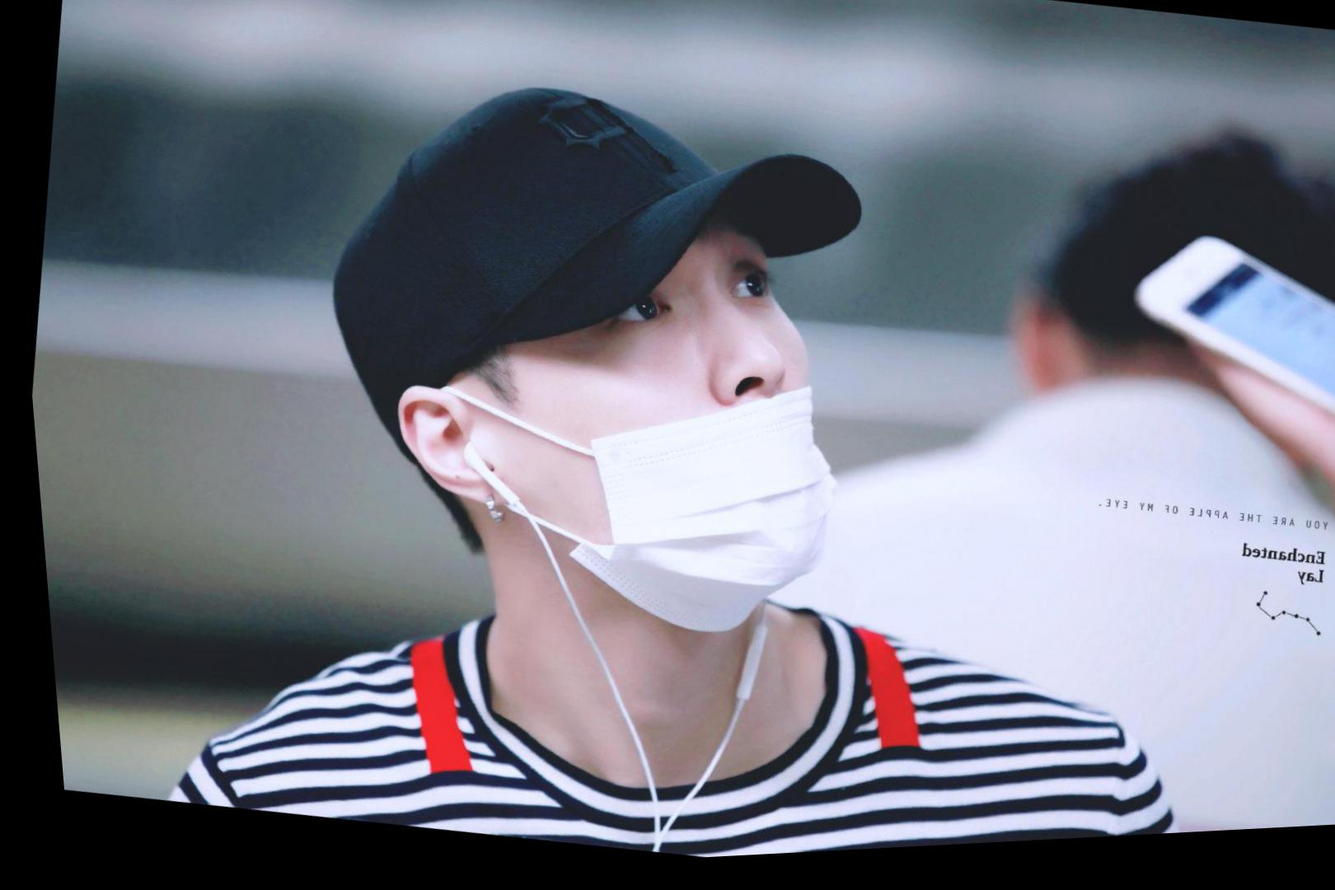WRONG: (527, 199, 878, 623)
